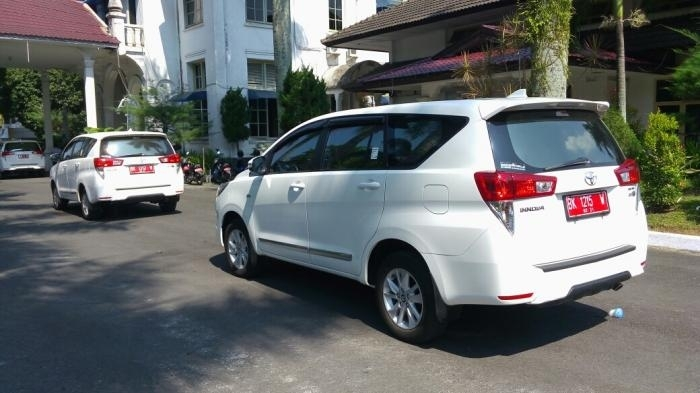plate: (566, 191, 608, 217), (129, 165, 154, 174)
